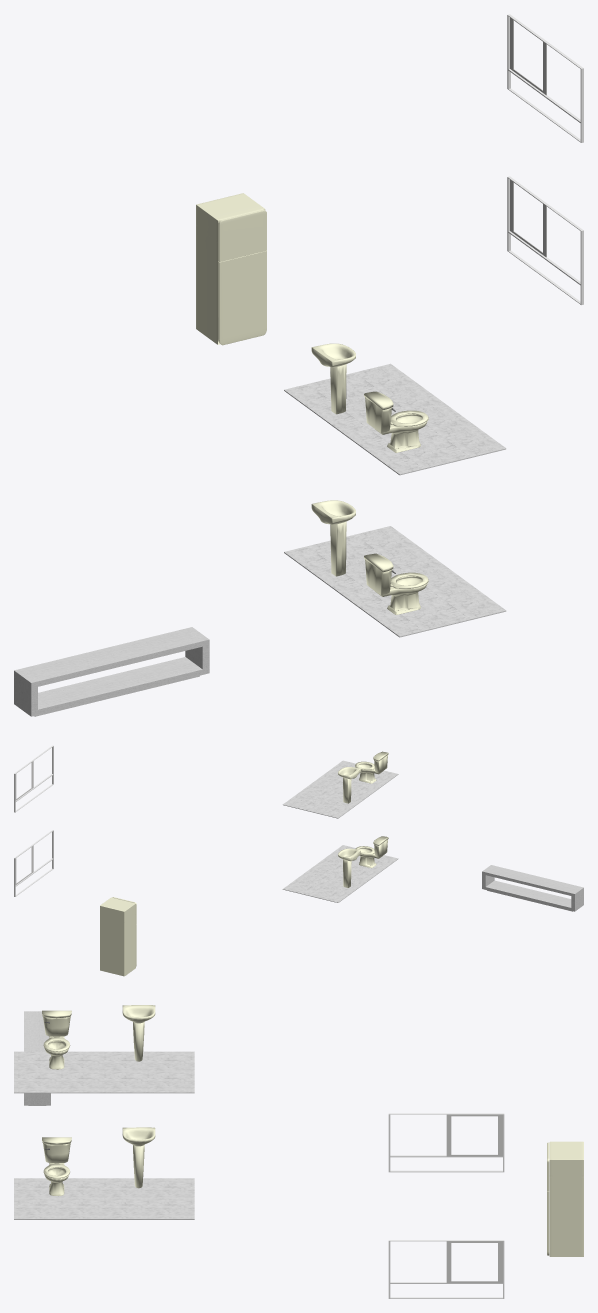
Rendered from brillosos_blancos.fbx.
3 renders of one model, top to bottom at view 1: azimuth 30°, elevation 25°; view 2: azimuth 150°, elevation 25°; view 3: azimuth 270°, elevation 25°, orthographic. The views are drawn at different scales.
Visible parts, largest first — view 1: PB_pisobanio, P2_pisobanio, Lowtable, Cube.007, Cube.005, P2_Toilet, P2_Toilet.001, Cube.006, sink_pb, sink_pb.001, VentanaP2, VentanaPB; view 2: P2_pisobanio, PB_pisobanio, Cube.005, Lowtable, P2_Toilet, P2_Toilet.001, sink_pb, sink_pb.001, VentanaP2, VentanaPB; view 3: P2_pisobanio, PB_pisobanio, Cube.005, P2_Toilet, P2_Toilet.001, Lowtable, VentanaP2, sink_pb, sink_pb.001, VentanaPB, MarcoVentanaE.001, MarcoVentanaE.
Part boxes in pixels (bbox=[...]): PB_pisobanio: bbox=[284, 526, 506, 637]; P2_pisobanio: bbox=[284, 363, 506, 475]; Lowtable: bbox=[14, 627, 209, 716]; Cube.007: bbox=[218, 250, 266, 345]; Cube.005: bbox=[196, 193, 265, 344]; P2_Toilet: bbox=[364, 391, 428, 452]; P2_Toilet.001: bbox=[364, 553, 428, 614]; Cube.006: bbox=[218, 210, 266, 261]; sink_pb: bbox=[311, 500, 355, 576]; sink_pb.001: bbox=[311, 343, 355, 414]; VentanaP2: bbox=[507, 14, 583, 142]; VentanaPB: bbox=[507, 176, 583, 305]; P2_pisobanio: bbox=[283, 760, 398, 818]; PB_pisobanio: bbox=[282, 845, 398, 902]; Cube.005: bbox=[100, 897, 135, 976]; Lowtable: bbox=[482, 865, 583, 911]; P2_Toilet: bbox=[355, 751, 388, 783]; P2_Toilet.001: bbox=[355, 836, 388, 868]; sink_pb: bbox=[338, 848, 360, 887]; sink_pb.001: bbox=[338, 767, 360, 803]; VentanaP2: bbox=[14, 745, 53, 812]; VentanaPB: bbox=[14, 830, 53, 896]; P2_pisobanio: bbox=[14, 1051, 194, 1093]; PB_pisobanio: bbox=[14, 1178, 194, 1219]; Cube.005: bbox=[549, 1141, 583, 1256]; P2_Toilet: bbox=[42, 1010, 71, 1069]; P2_Toilet.001: bbox=[42, 1137, 71, 1195]; Lowtable: bbox=[24, 1011, 50, 1105]; VentanaP2: bbox=[388, 1113, 504, 1172]; sink_pb: bbox=[122, 1127, 155, 1188]; sink_pb.001: bbox=[122, 1005, 155, 1061]; VentanaPB: bbox=[388, 1240, 504, 1298]; MarcoVentanaE.001: bbox=[446, 1114, 502, 1156]; MarcoVentanaE: bbox=[446, 1241, 502, 1282].
Bounding box in the file's own units: 1538 × 542 × 1236.
